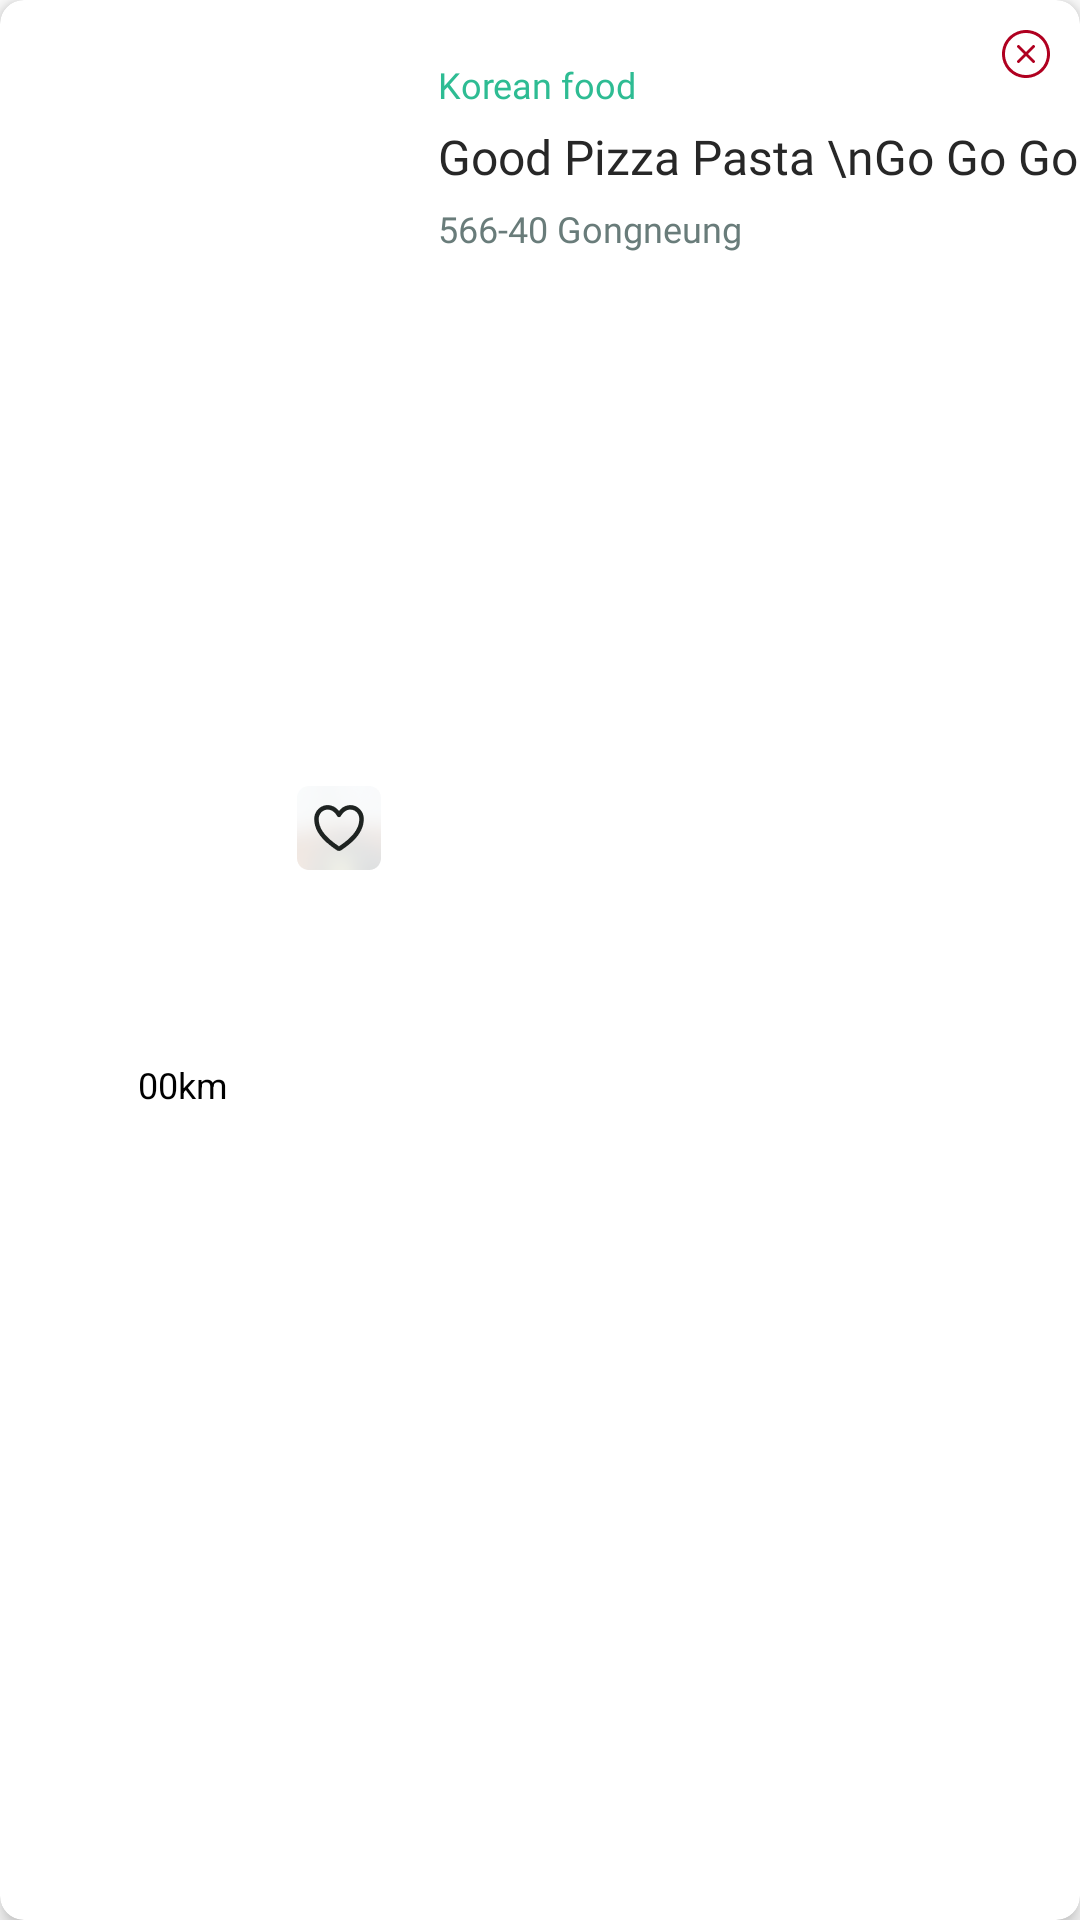

Locate icon controls on the screen. Image size 1080px x 1920px, boxes as [x1,y1,x2,y2].
delete: [1002,30,1050,78]
heart: [297,805,381,870]
